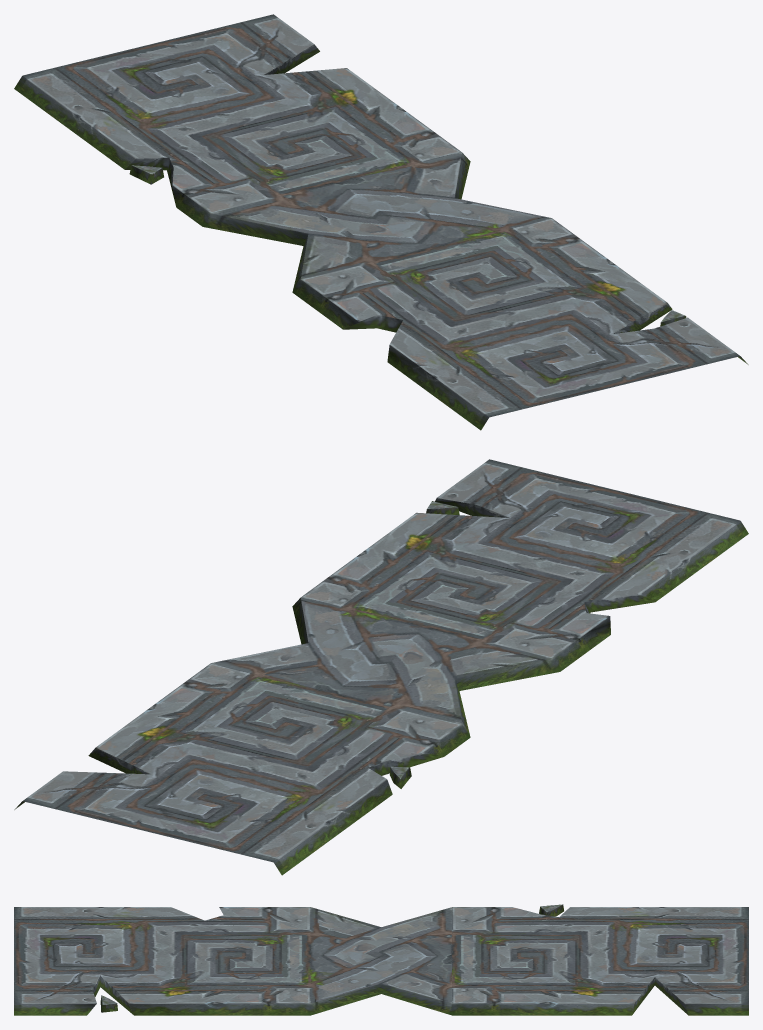
Rendered from fb_xsc_zj_04_b.FBX.
The picture shows the model from 3 angles, top to bottom: view 1: azimuth 30°, elevation 25°; view 2: azimuth 150°, elevation 25°; view 3: azimuth 270°, elevation 25°; orthographic projection. The views are drawn at different scales.
Visible parts, largest first — view 1: fb_xsc_zj_04; view 2: fb_xsc_zj_04; view 3: fb_xsc_zj_04.
Boxes of the visible parts, left/top/right/bottom form: fb_xsc_zj_04: left=14, top=14, right=748, bottom=430; fb_xsc_zj_04: left=14, top=459, right=748, bottom=875; fb_xsc_zj_04: left=14, top=904, right=748, bottom=1015.
Bounding box in the file's own units: 423 × 16.78 × 1268.
